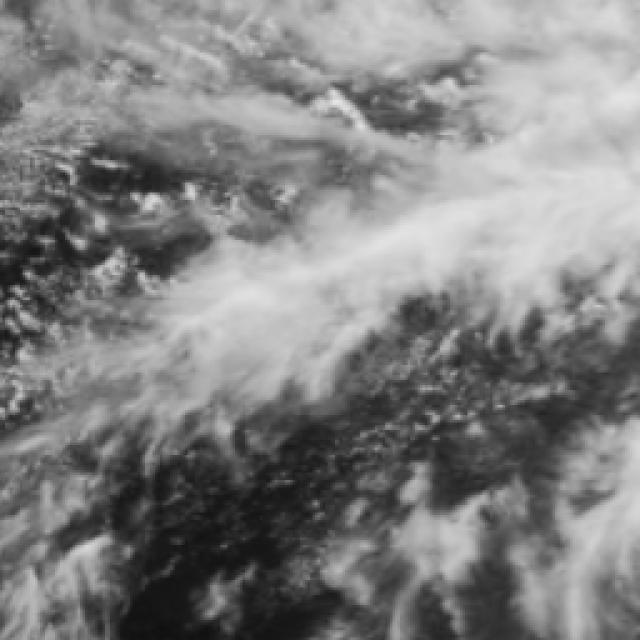CB: (507, 0, 640, 255)
